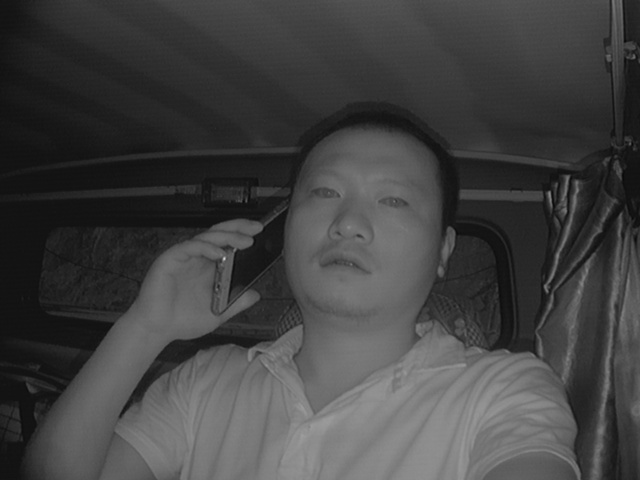hand: (140, 212, 270, 336)
